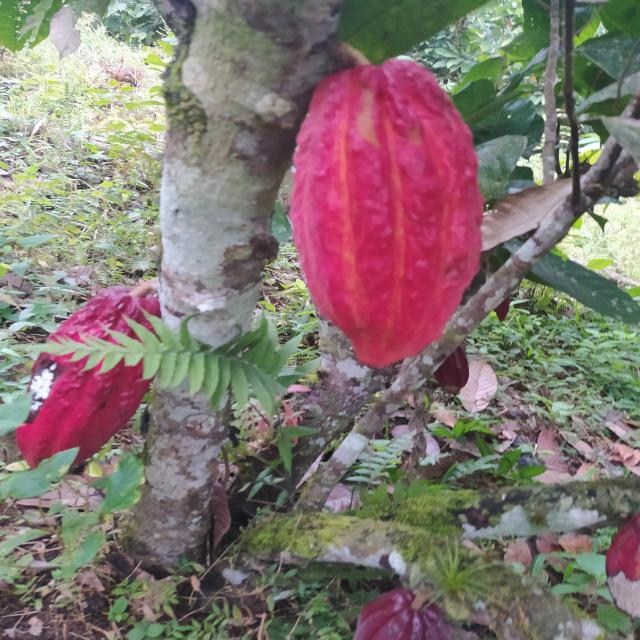Monilia: (16, 286, 161, 477), (604, 511, 640, 623)
Sana: (291, 56, 481, 375)
